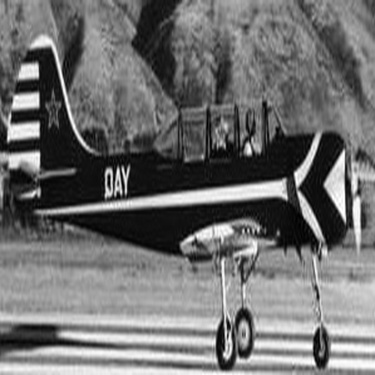airplane: (2, 1, 370, 369)
